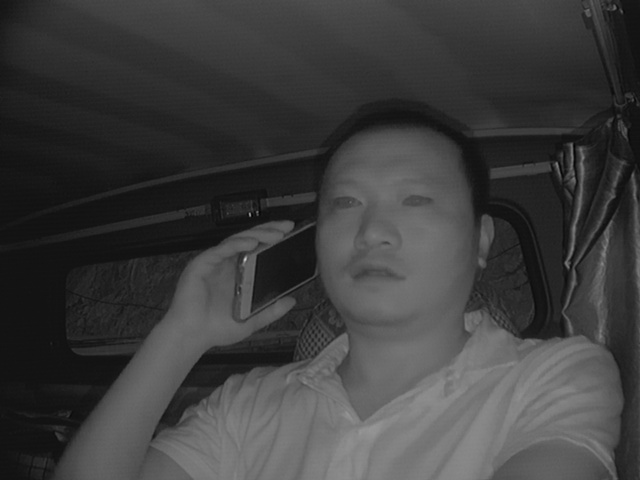hand: (191, 219, 300, 341)
